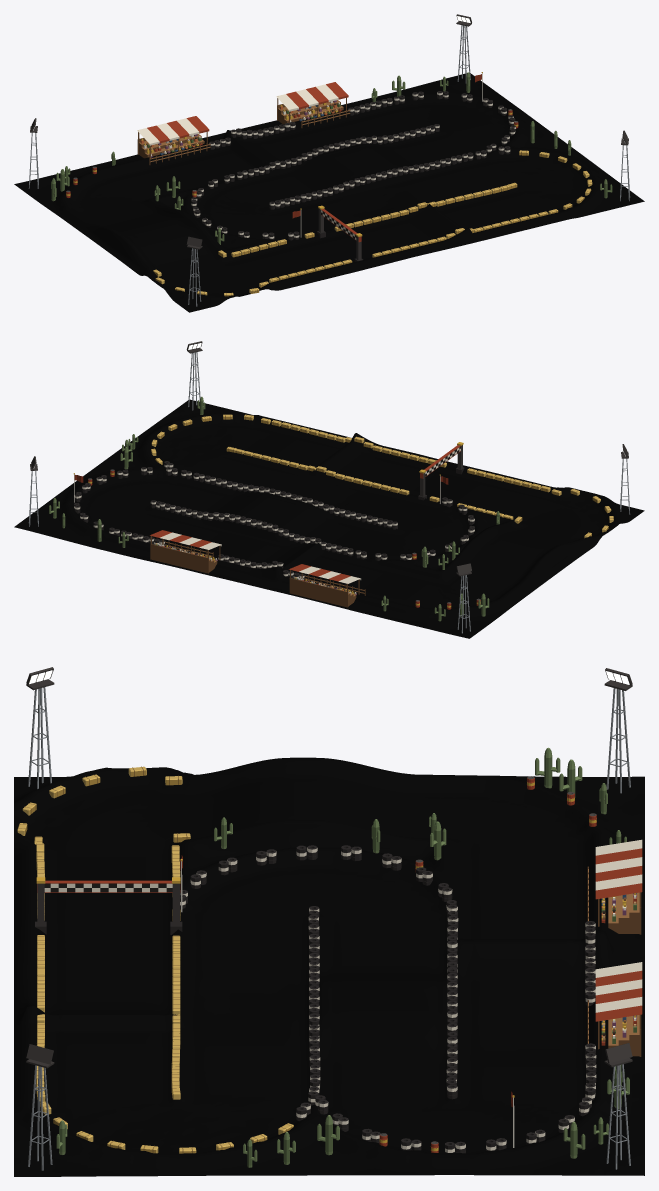
The model's file is track_0.glb.
3 renders of one model, top to bottom at view 1: azimuth 30°, elevation 25°; view 2: azimuth 150°, elevation 25°; view 3: azimuth 270°, elevation 25°, orthographic. The views are drawn at different scales.
Visible parts, largest first — view 1: track_0_ground, t0_grandstand_1, t0_grandstand_2, t0_start_arch_0, t0_floodlight_5, t0_floodlight_4; view 2: track_0_ground, t0_grandstand_2, t0_grandstand_1, t0_start_arch_0, t0_floodlight_3, t0_floodlight_6; view 3: track_0_ground, t0_grandstand_1, t0_grandstand_2, t0_start_arch_0, t0_floodlight_6, t0_floodlight_4, t0_floodlight_3, t0_floodlight_5.
Boxes of the visible parts, bbox=[...] form: track_0_ground: bbox=[14, 73, 644, 312]; t0_grandstand_1: bbox=[137, 116, 209, 158]; t0_grandstand_2: bbox=[276, 82, 348, 124]; t0_start_arch_0: bbox=[317, 205, 363, 261]; t0_floodlight_5: bbox=[186, 236, 202, 306]; t0_floodlight_4: bbox=[456, 14, 471, 83]; track_0_ground: bbox=[14, 399, 644, 638]; t0_grandstand_2: bbox=[150, 530, 221, 573]; t0_grandstand_1: bbox=[289, 564, 361, 607]; t0_start_arch_0: bbox=[418, 442, 464, 500]; t0_floodlight_3: bbox=[456, 563, 471, 633]; t0_floodlight_6: bbox=[186, 341, 202, 410]; track_0_ground: bbox=[14, 757, 644, 1176]; t0_grandstand_1: bbox=[595, 839, 642, 934]; t0_grandstand_2: bbox=[595, 962, 642, 1056]; t0_start_arch_0: bbox=[35, 877, 182, 934]; t0_floodlight_6: bbox=[26, 1044, 54, 1170]; t0_floodlight_4: bbox=[604, 1043, 632, 1169]; t0_floodlight_3: bbox=[604, 668, 632, 793]; t0_floodlight_5: bbox=[26, 667, 54, 789].
Bounding box in the file's own units: 72 × 10.25 × 48.
Materials: 35 (1 with a texture image).
